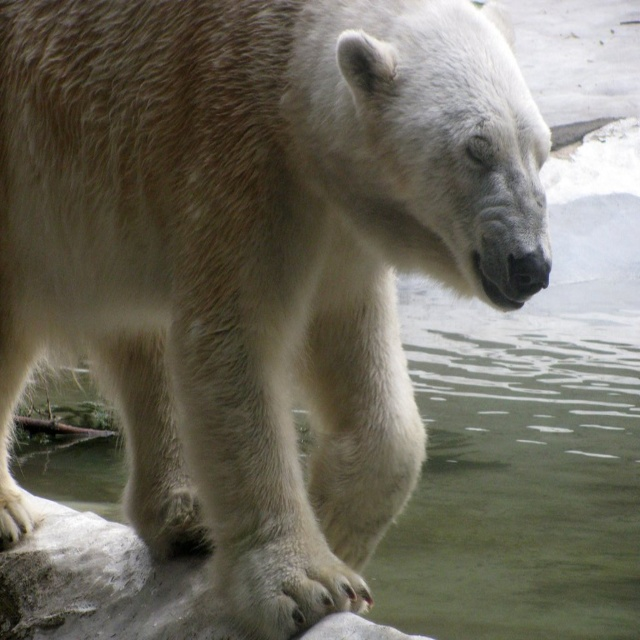Polar bear: (0, 0, 551, 638)
